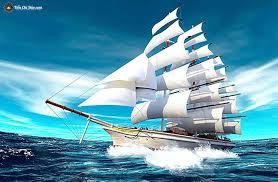Ship: (31, 8, 251, 158)
